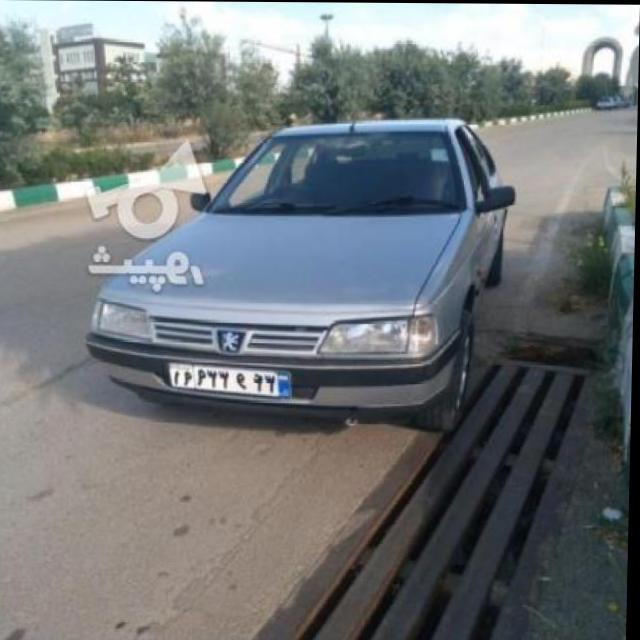licence: (171, 359, 294, 398)
